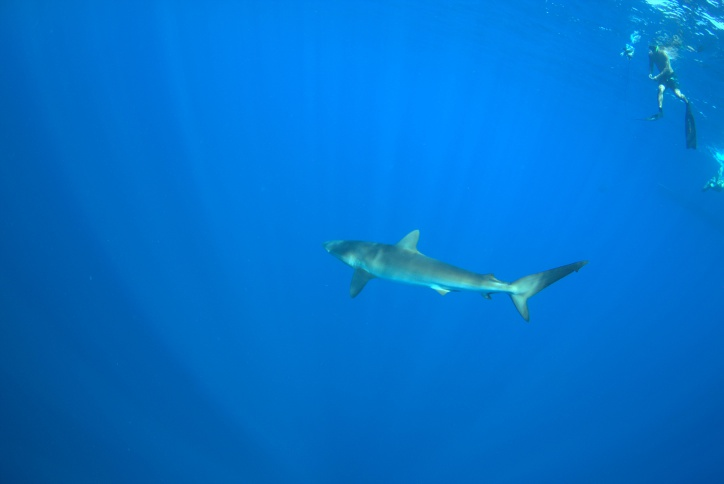Sedoso: (317, 211, 592, 327)
